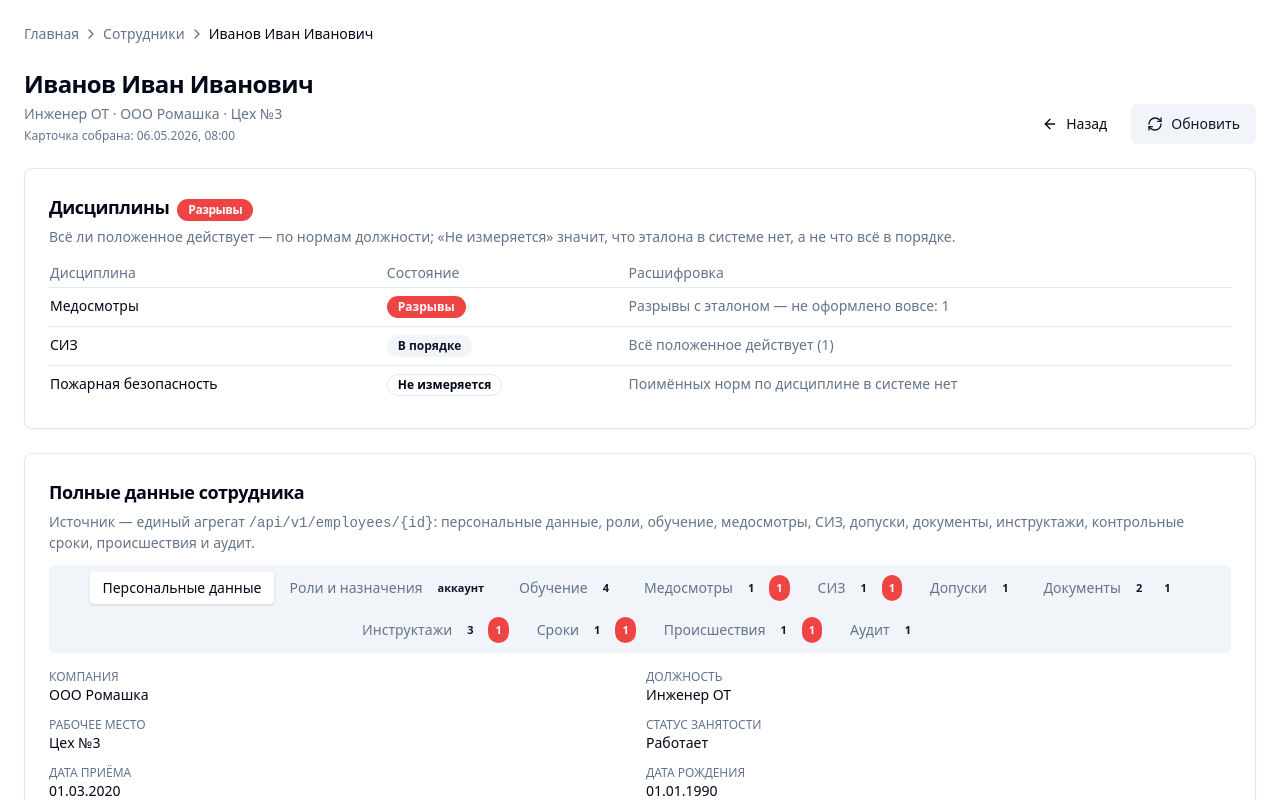
Scenario: EmployeeCardPage › вкладка «Обучение» показывает стажировки из общего реестра (срез-45)
Expected: the heading "Иванов Иван Иванович" is shown, [24,68,313,100]
Click the tab "Обучение 4".
click(568, 588)  # box [507,569,628,607]
(page scrolled)
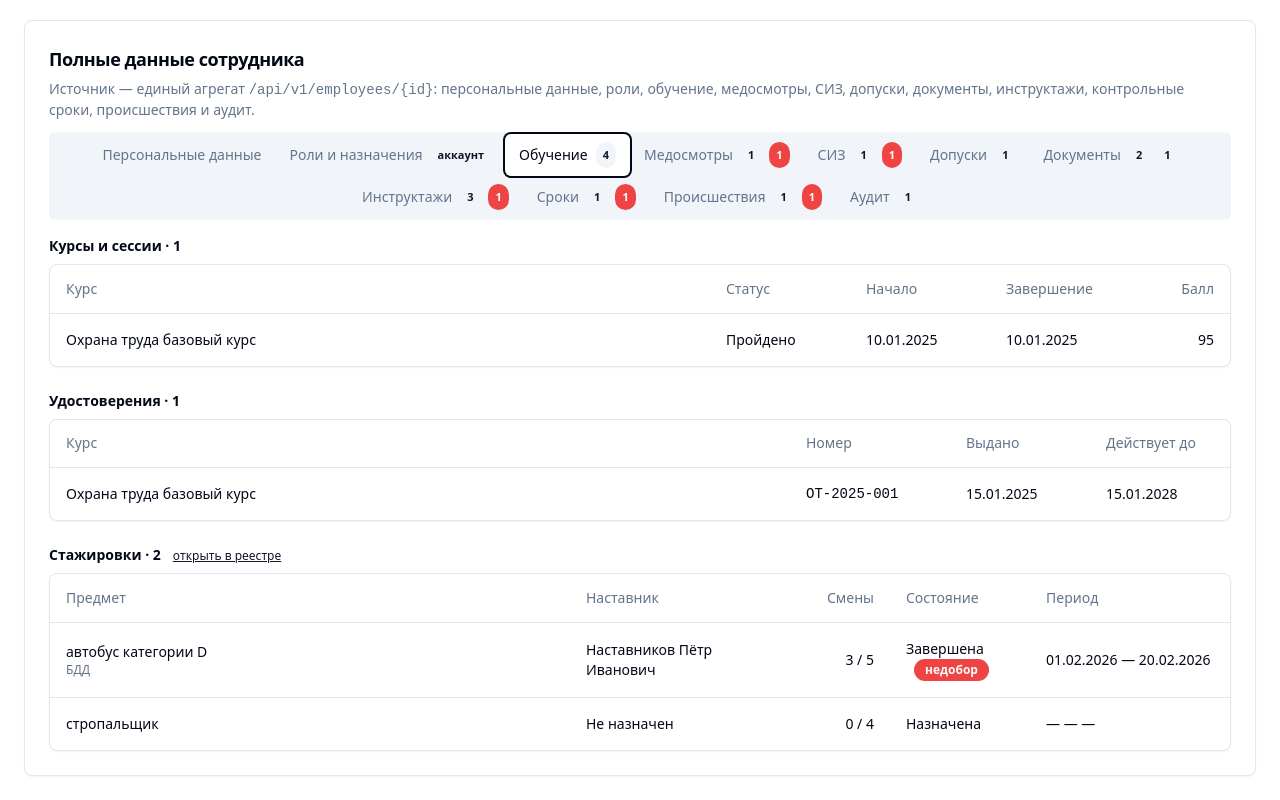
Result: the heading "Стажировки · 2 открыть в реестре" is shown at [49,545,281,564]
Result: the text "автобус категории D" is shown at [66,642,207,660]
Result: the text "Наставников Пётр Иванович" is shown at [570,622,770,697]
